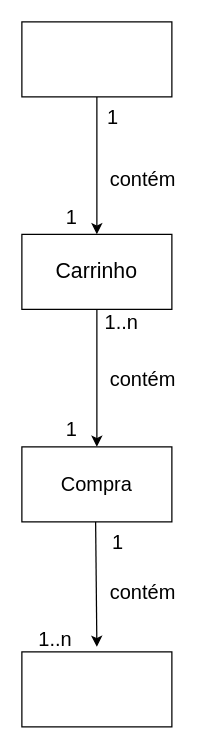
Some shapes in this 198 by 749 pixel diagram are drawn without their labels. Here are the shapes that lost their labels. From the top down, the centre of each, then its label:
At point 96,59: "User".
At point 96,689: "Product".
